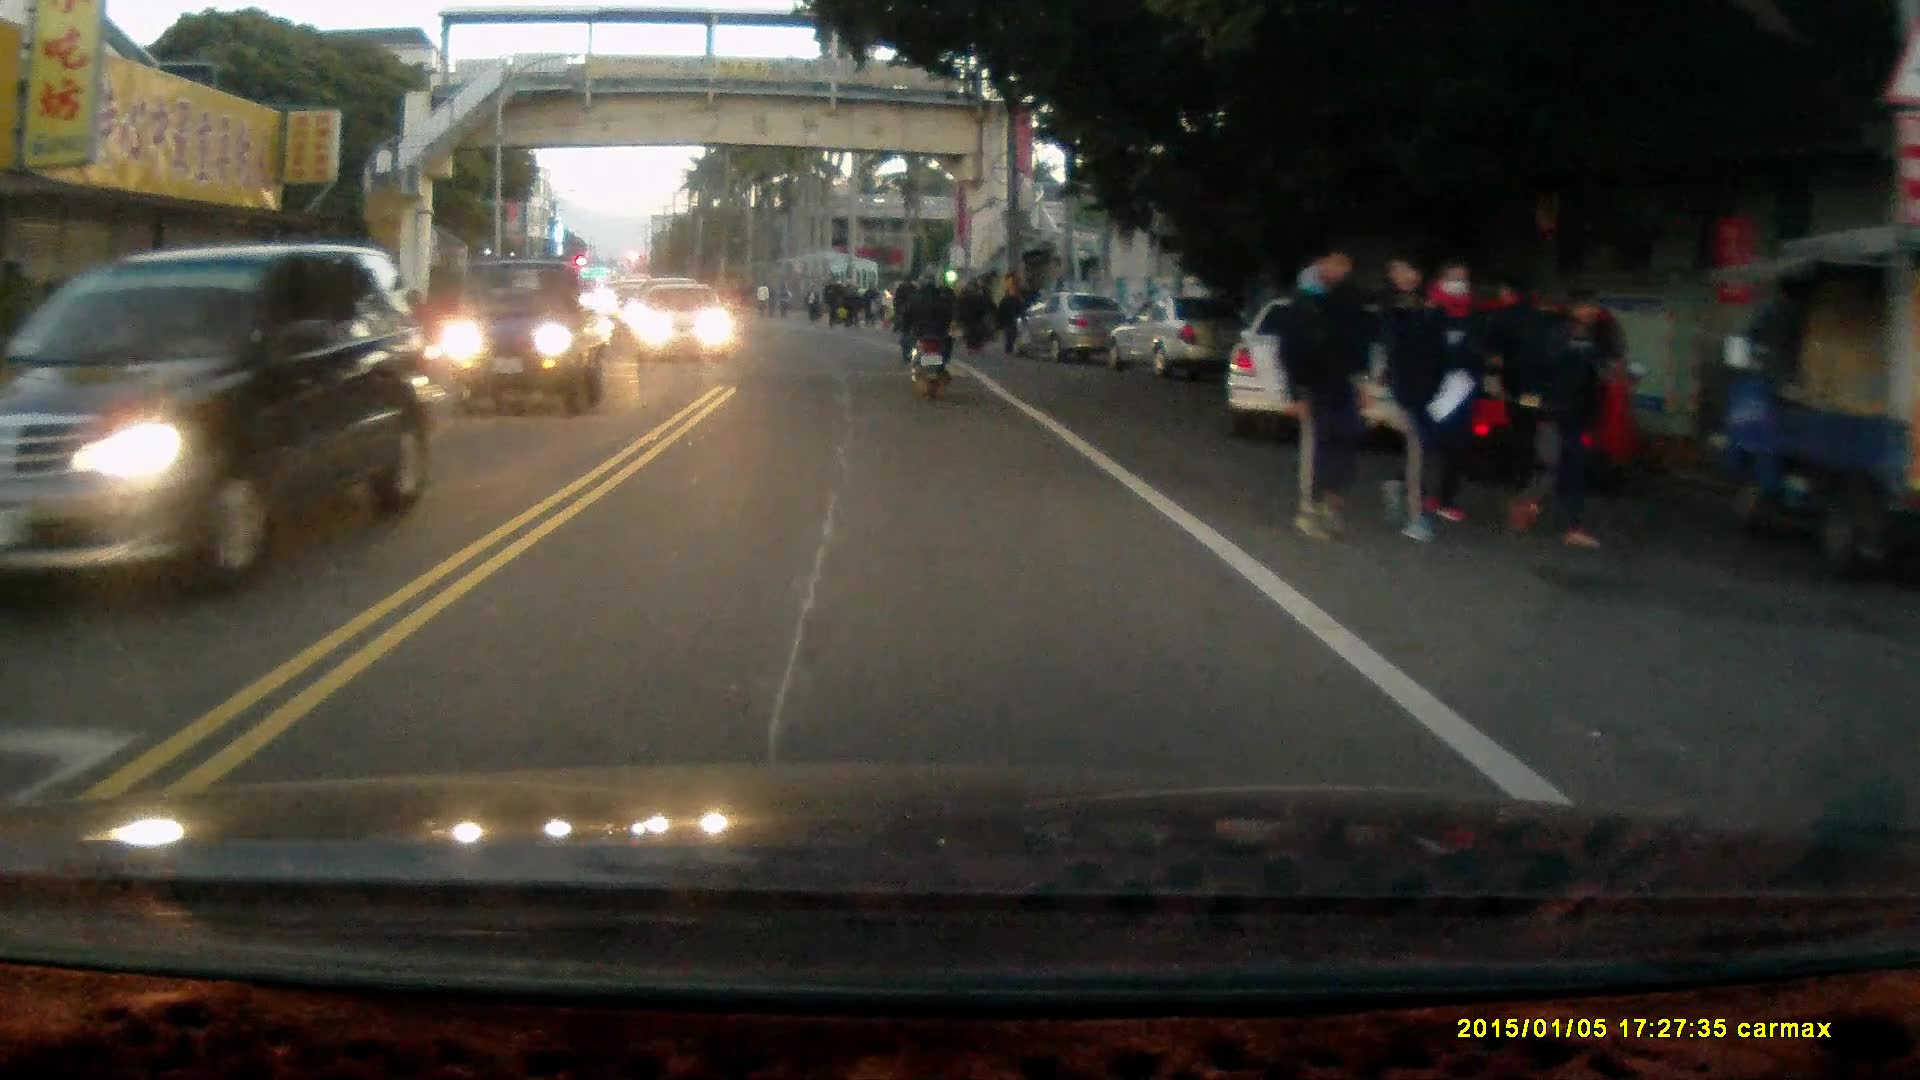pedestrian: (1273, 233, 1376, 549), (1376, 245, 1477, 546), (1526, 285, 1608, 554), (1413, 259, 1497, 522), (1476, 273, 1563, 522), (966, 268, 995, 352), (958, 276, 983, 355), (995, 281, 1023, 351)
rider: (889, 266, 956, 399)
vehicle: (4, 244, 428, 604), (1385, 286, 1644, 495), (1224, 286, 1443, 438), (447, 263, 610, 415), (1113, 288, 1238, 377), (1013, 291, 1137, 361), (637, 283, 735, 362)
